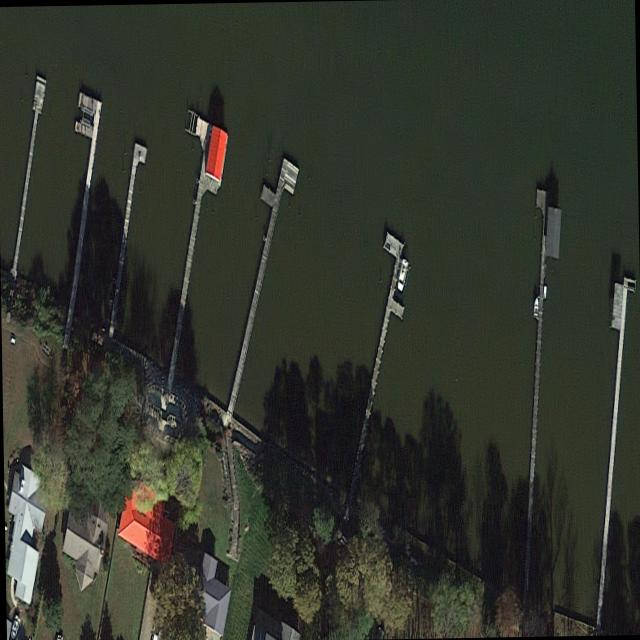ship: (7, 611, 22, 640), (395, 256, 407, 292), (532, 295, 538, 317)
